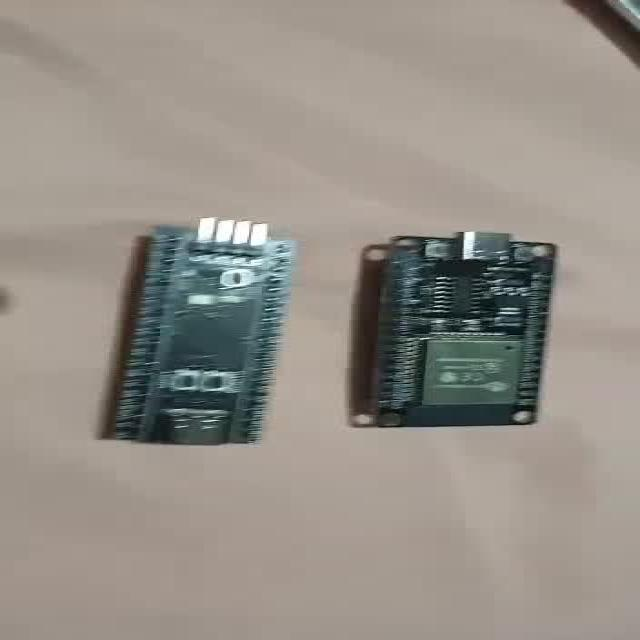ESP32: (374, 233, 556, 426)
STM32: (117, 219, 295, 445)
